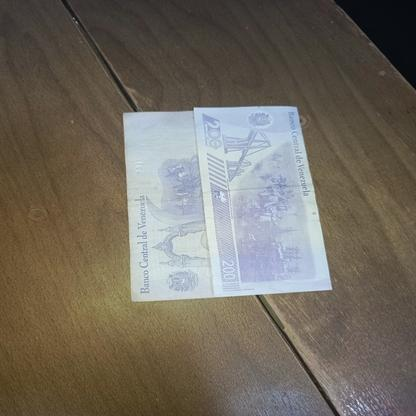vef_back: (118, 194, 310, 334), (114, 122, 306, 216)
